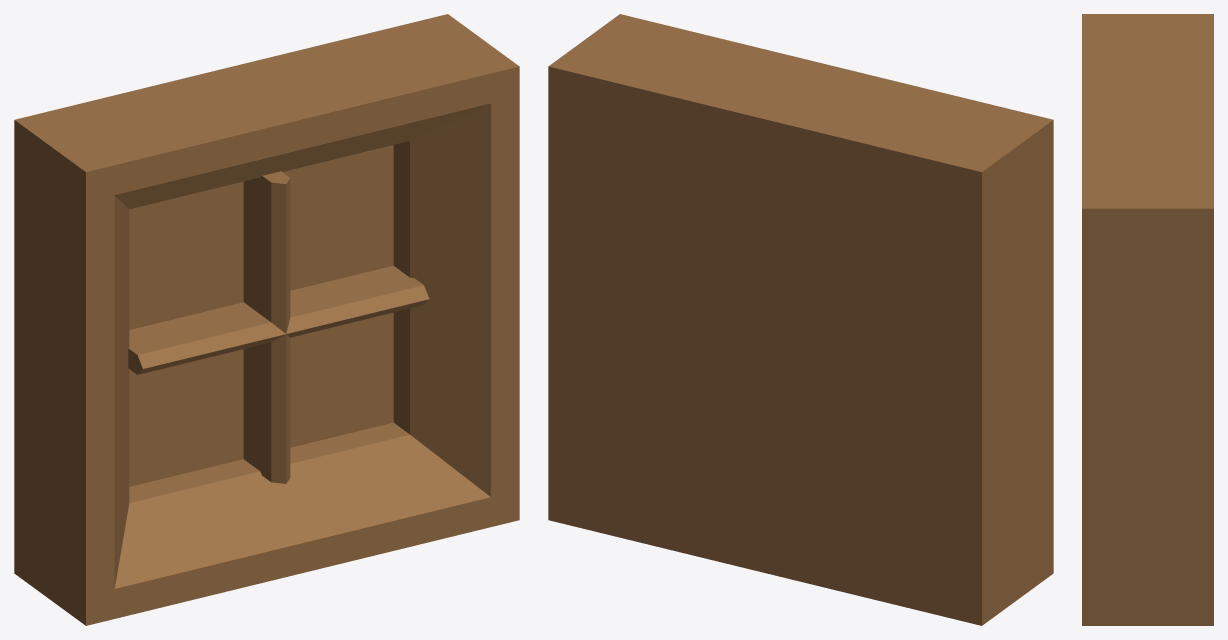
3 renders of one model, left to right at view 1: azimuth 30°, elevation 25°; view 2: azimuth 150°, elevation 25°; view 3: azimuth 270°, elevation 25°, orthographic. The views are drawn at different scales.
Visible parts, largest first — view 1: block_board; view 2: block_board; view 3: block_board.
Boxes of the visible parts, box(x1,y1,x2,y2) form: block_board: box(14, 14, 519, 625); block_board: box(548, 14, 1053, 625); block_board: box(1082, 14, 1213, 625).
Bounding box in the file's own units: 0.0908 × 0.0908 × 0.026.
